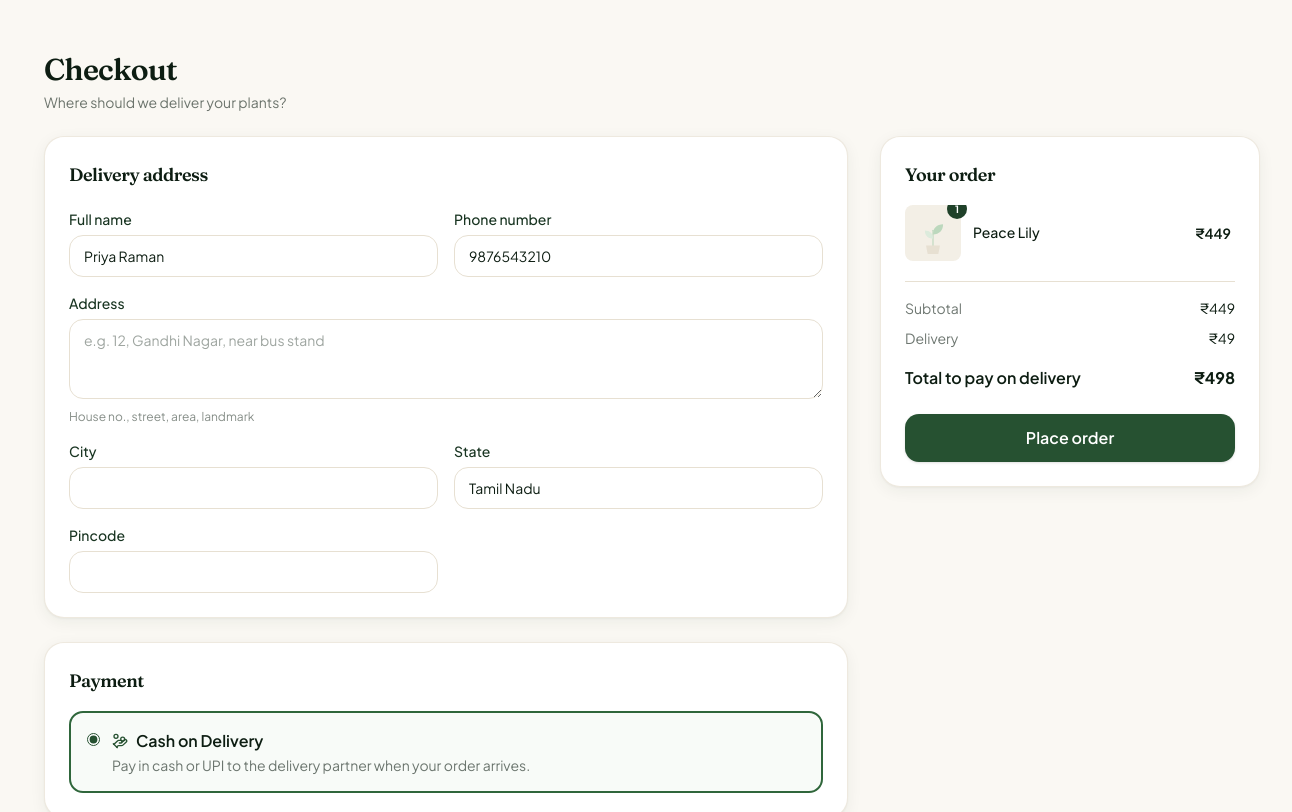
checkout address › places the order once the address is complete, and remembers it for next time
Type "12, Gandhi Nagar, near bus stand" into the text box labelled "Address".
click(446, 359); type("12, Gandhi Nagar, near bus stand")  # box [69,319,823,399]
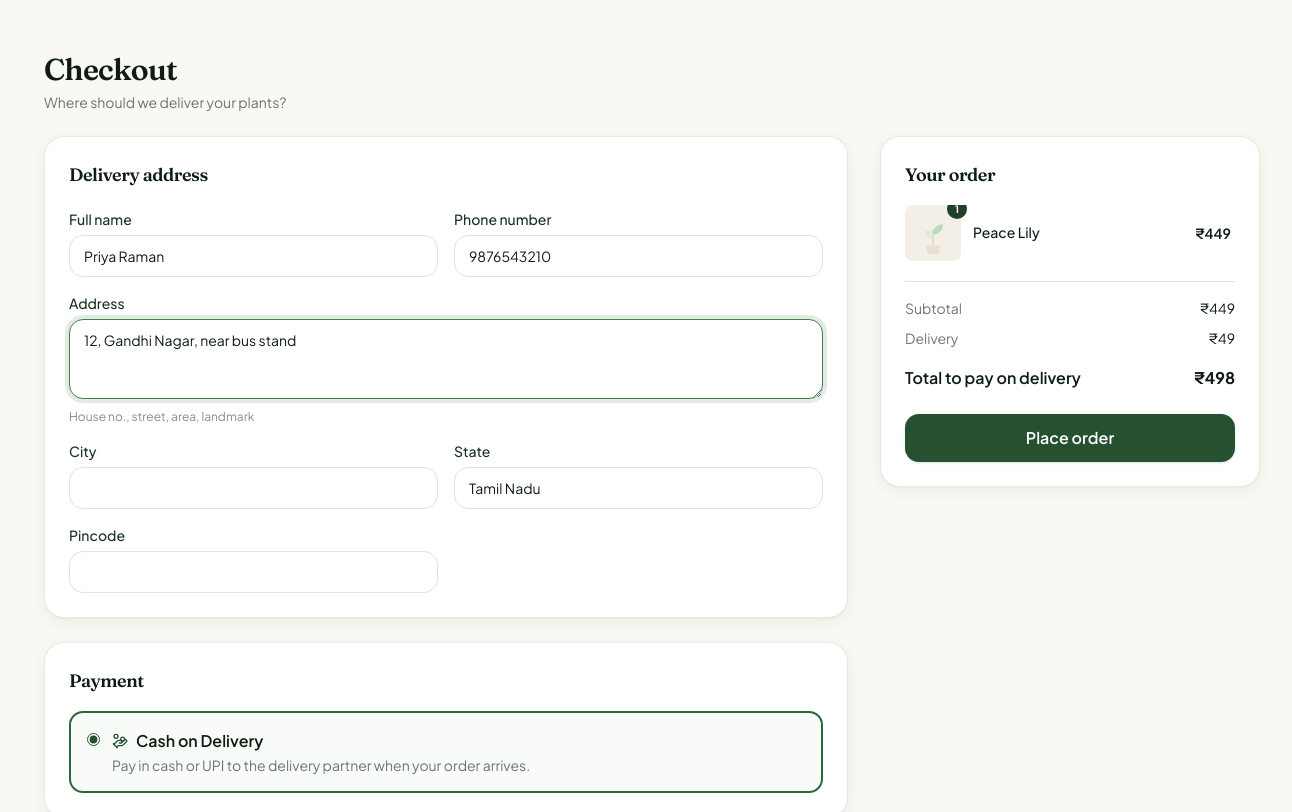
Type "Coimbatore" into the field labelled "City".
click(254, 488); type("Coimbatore")  # box [69,467,438,509]
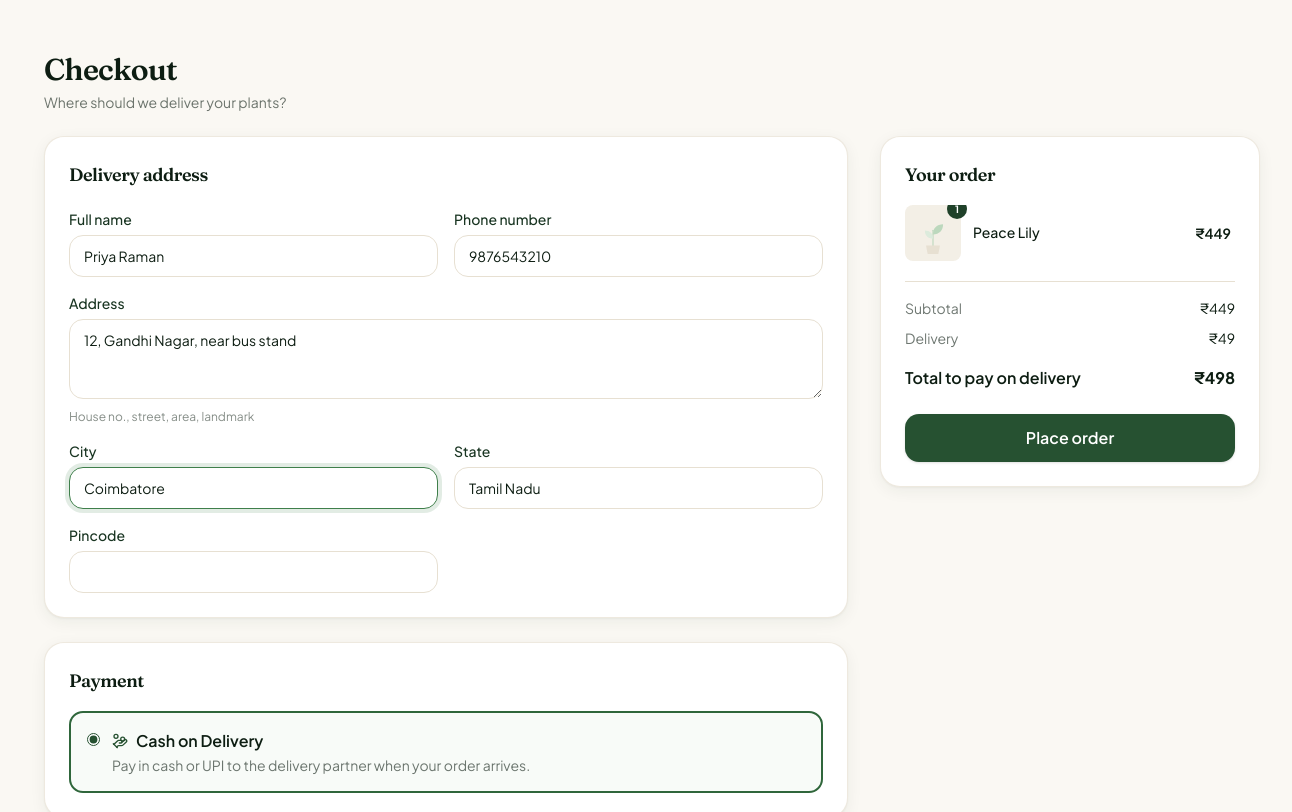
Type "641046" into the field labelled "Pincode".
click(254, 572); type("641046")  # box [69,551,438,593]
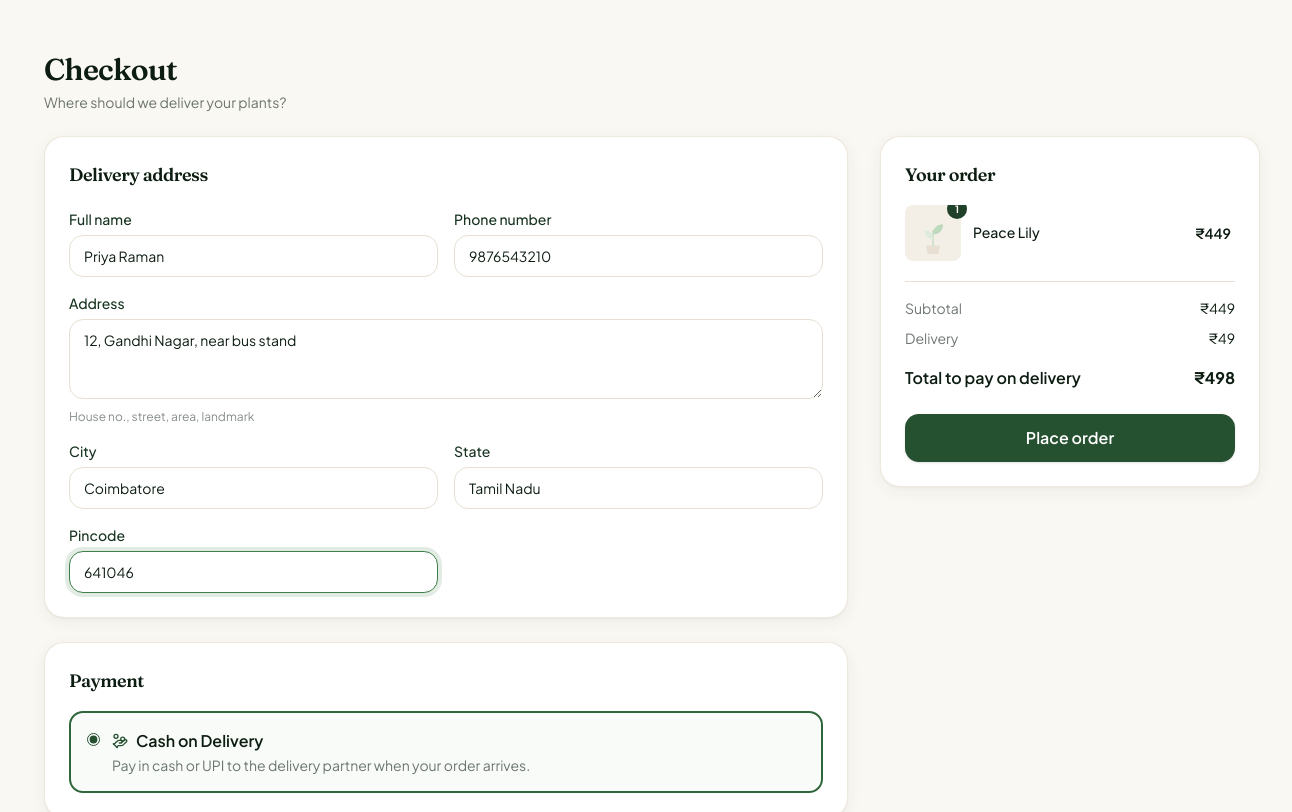
Click the button "Place order".
click(1070, 438)  # box [905,414,1235,462]
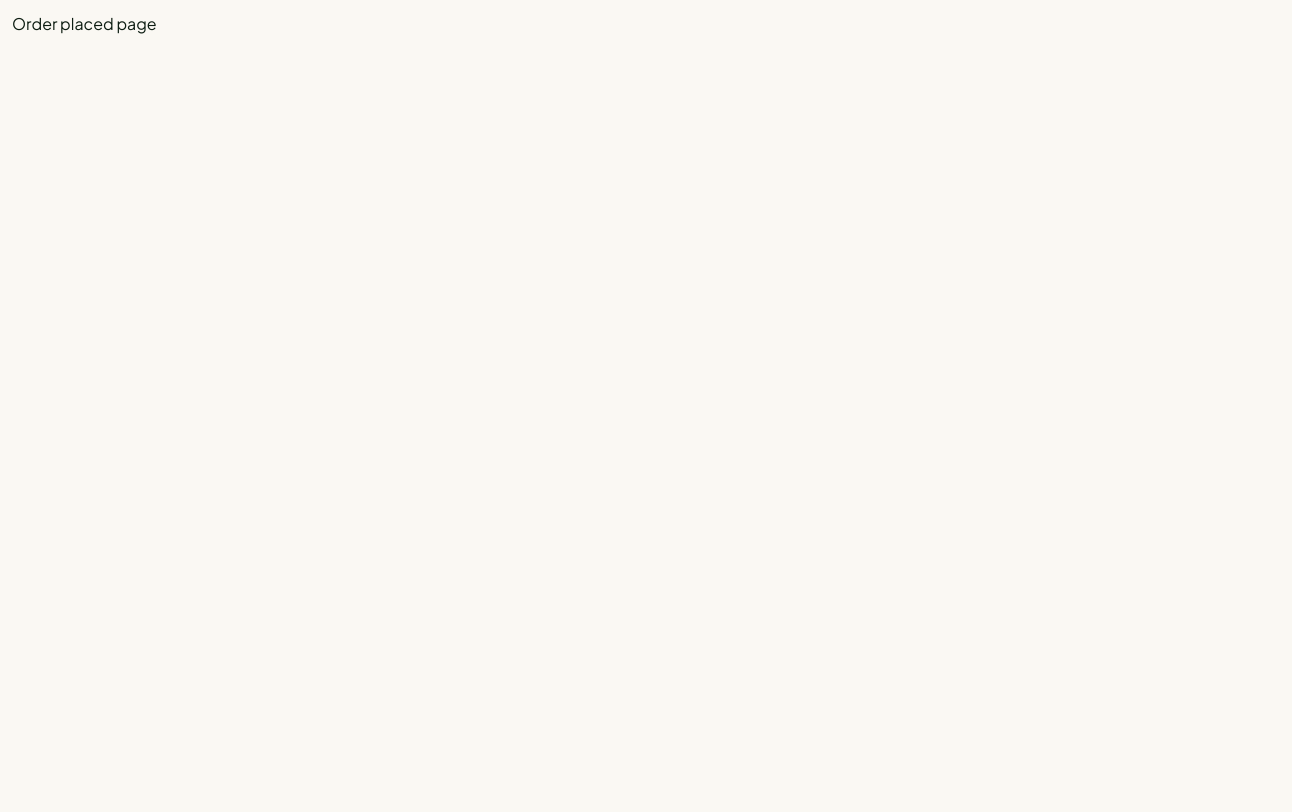
Expected: the text "Order placed page" is shown, [12,13,157,34]
